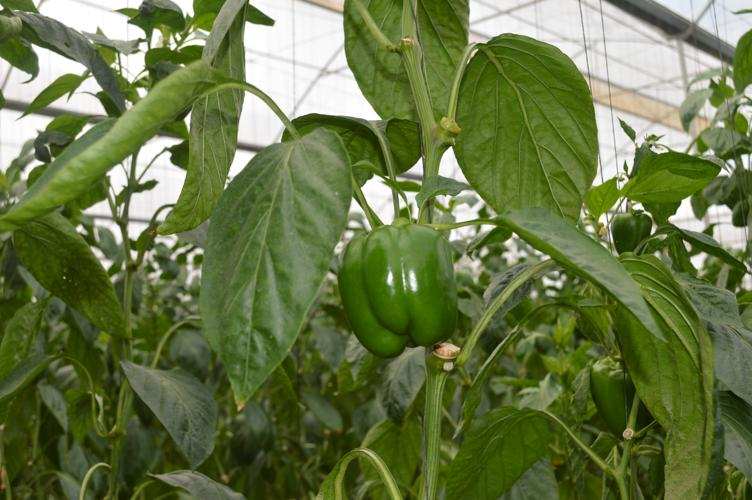BellPepper: (345, 225, 458, 349), (587, 358, 645, 441)
